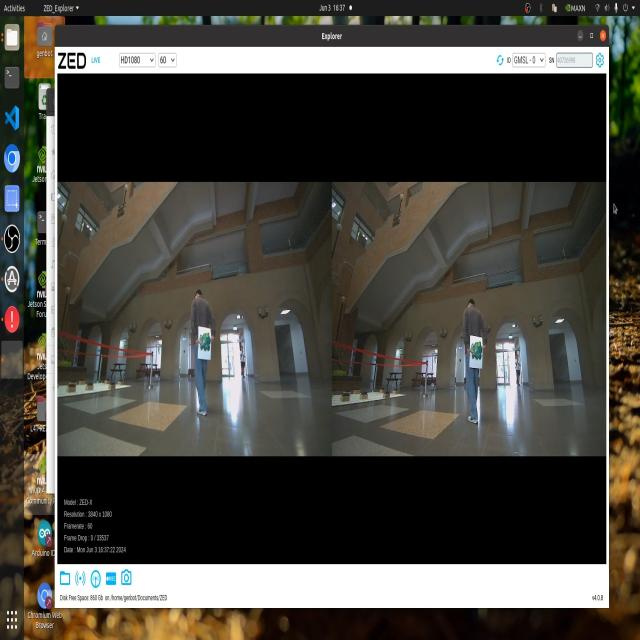green: (195, 328, 215, 358), (469, 337, 482, 365)
